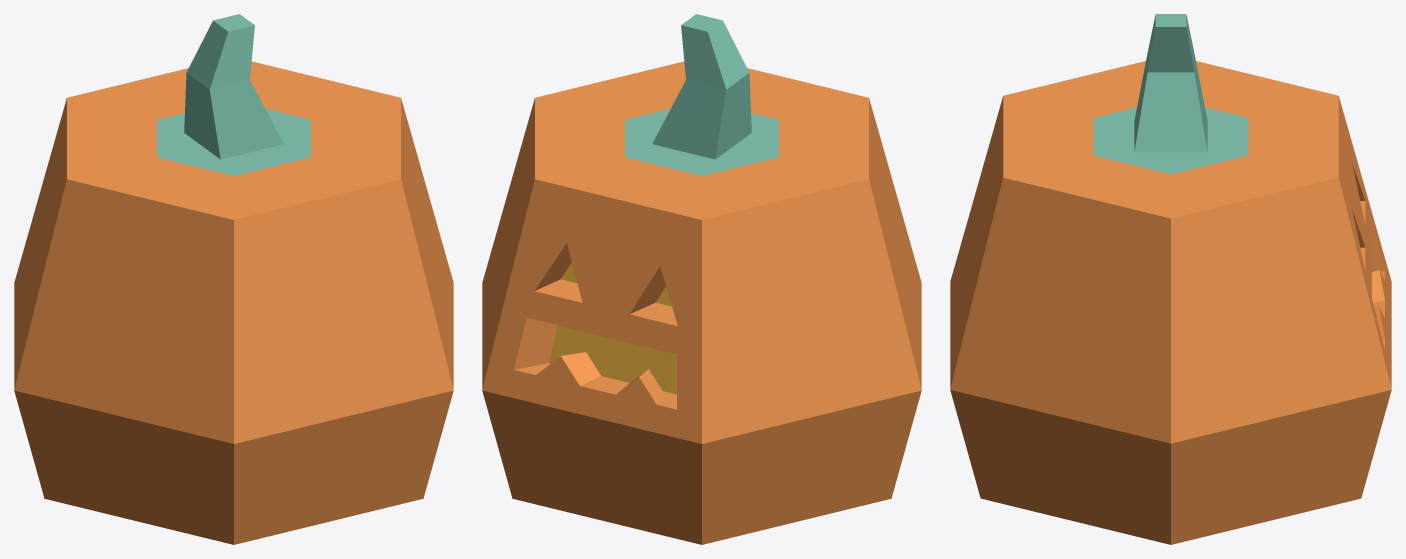
Rendered from pumpkinCarvedTall.fbx.
3 renders of one model, left to right at view 1: azimuth 30°, elevation 25°; view 2: azimuth 150°, elevation 25°; view 3: azimuth 270°, elevation 25°, orthographic.
Visible parts, largest first — view 1: pumpkinCarvedTall; view 2: pumpkinCarvedTall; view 3: pumpkinCarvedTall.
Part boxes in pixels (box(x1,y1,x2,y2)): pumpkinCarvedTall: box(14, 14, 453, 544); pumpkinCarvedTall: box(482, 14, 921, 544); pumpkinCarvedTall: box(950, 14, 1391, 544).
Bounding box in the file's own units: 2.78 × 2.6 × 2.41.
